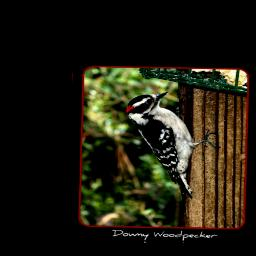Woodpecker: (123, 90, 225, 198)
